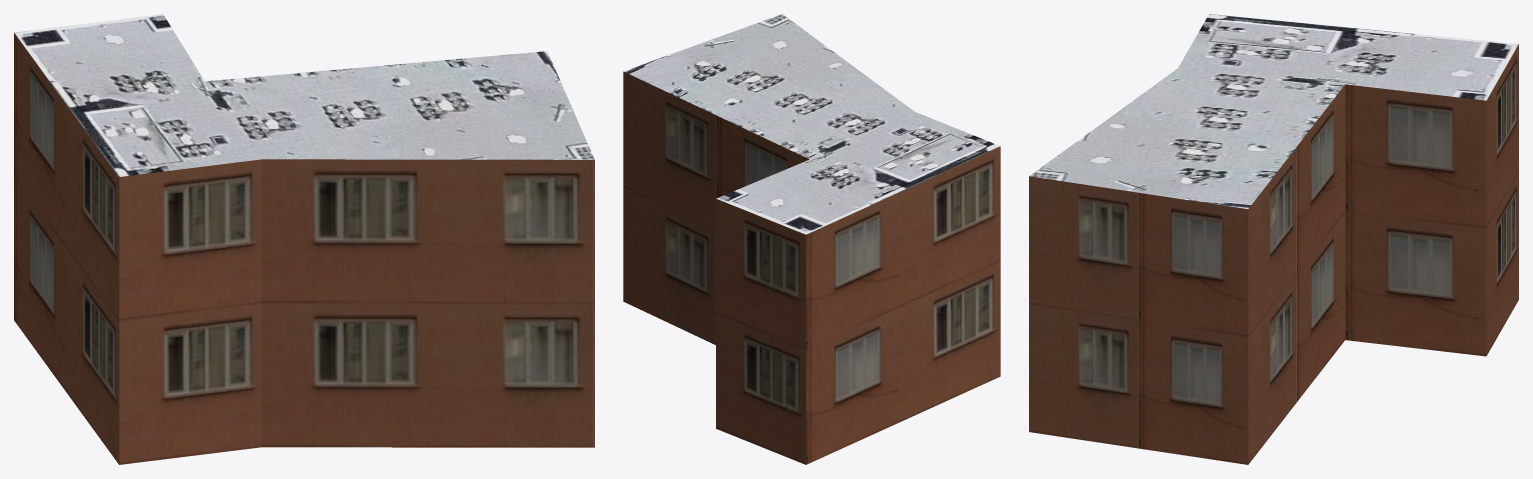
Rendered from ResTex__2558.fbx.
The picture shows the model from 3 angles, left to right: view 1: azimuth 30°, elevation 25°; view 2: azimuth 150°, elevation 25°; view 3: azimuth 270°, elevation 25°; orthographic projection. The views are drawn at different scales.
Parts seen in each view (by area): view 1: CityEngineMaterial_20_m, CityEngineMaterial_m; view 2: CityEngineMaterial_20_m, CityEngineMaterial_m; view 3: CityEngineMaterial_20_m, CityEngineMaterial_m.
Part boxes in pixels (x1=…): CityEngineMaterial_20_m: x1=14, y1=33, x2=594, y2=464; CityEngineMaterial_m: x1=14, y1=14, x2=594, y2=176; CityEngineMaterial_20_m: x1=623, y1=71, x2=1000, y2=464; CityEngineMaterial_m: x1=623, y1=14, x2=1000, y2=234; CityEngineMaterial_20_m: x1=1029, y1=44, x2=1518, y2=464; CityEngineMaterial_m: x1=1029, y1=14, x2=1518, y2=208.
Bounding box in the file's own units: 9.82 × 6 × 10.41.
2 materials, 2 textured.
